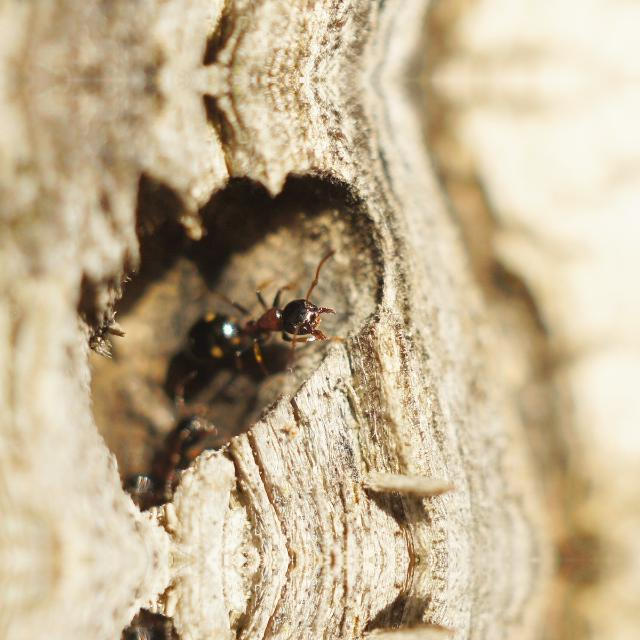Dolichoderus: (182, 271, 346, 371)
